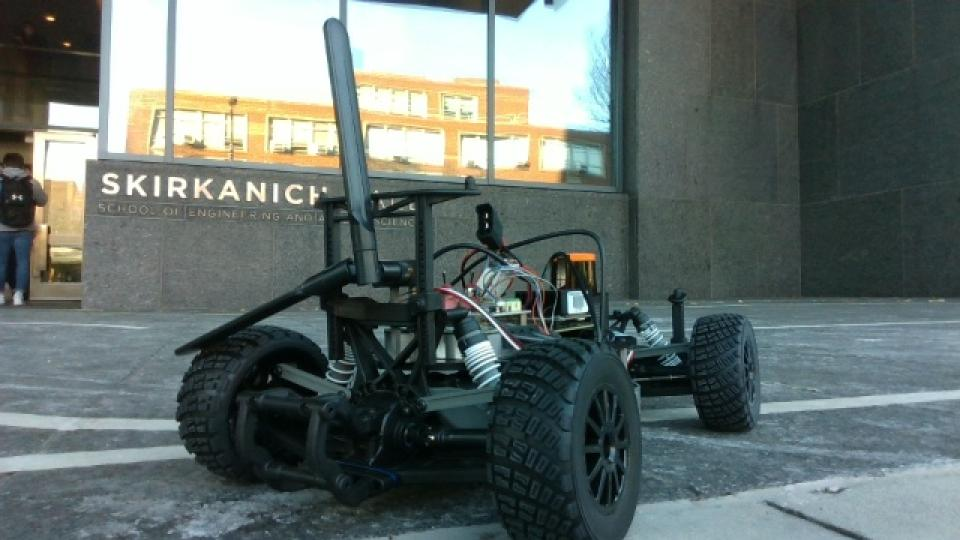car: (171, 15, 763, 537)
